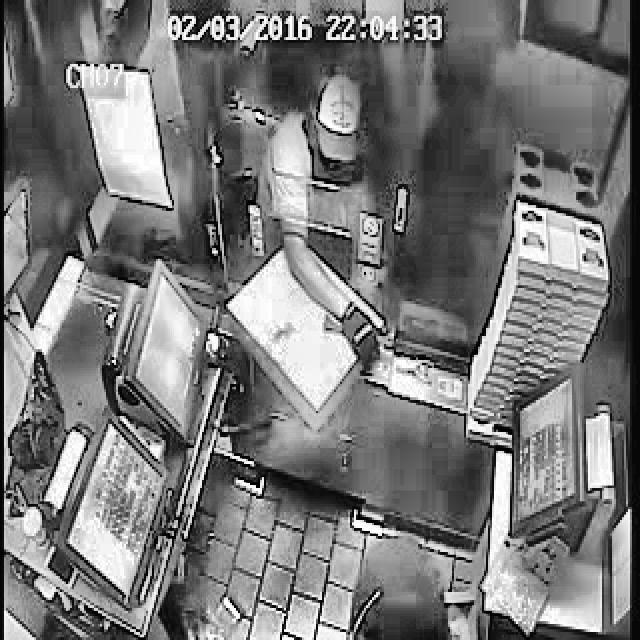burglary: (216, 53, 405, 430)
